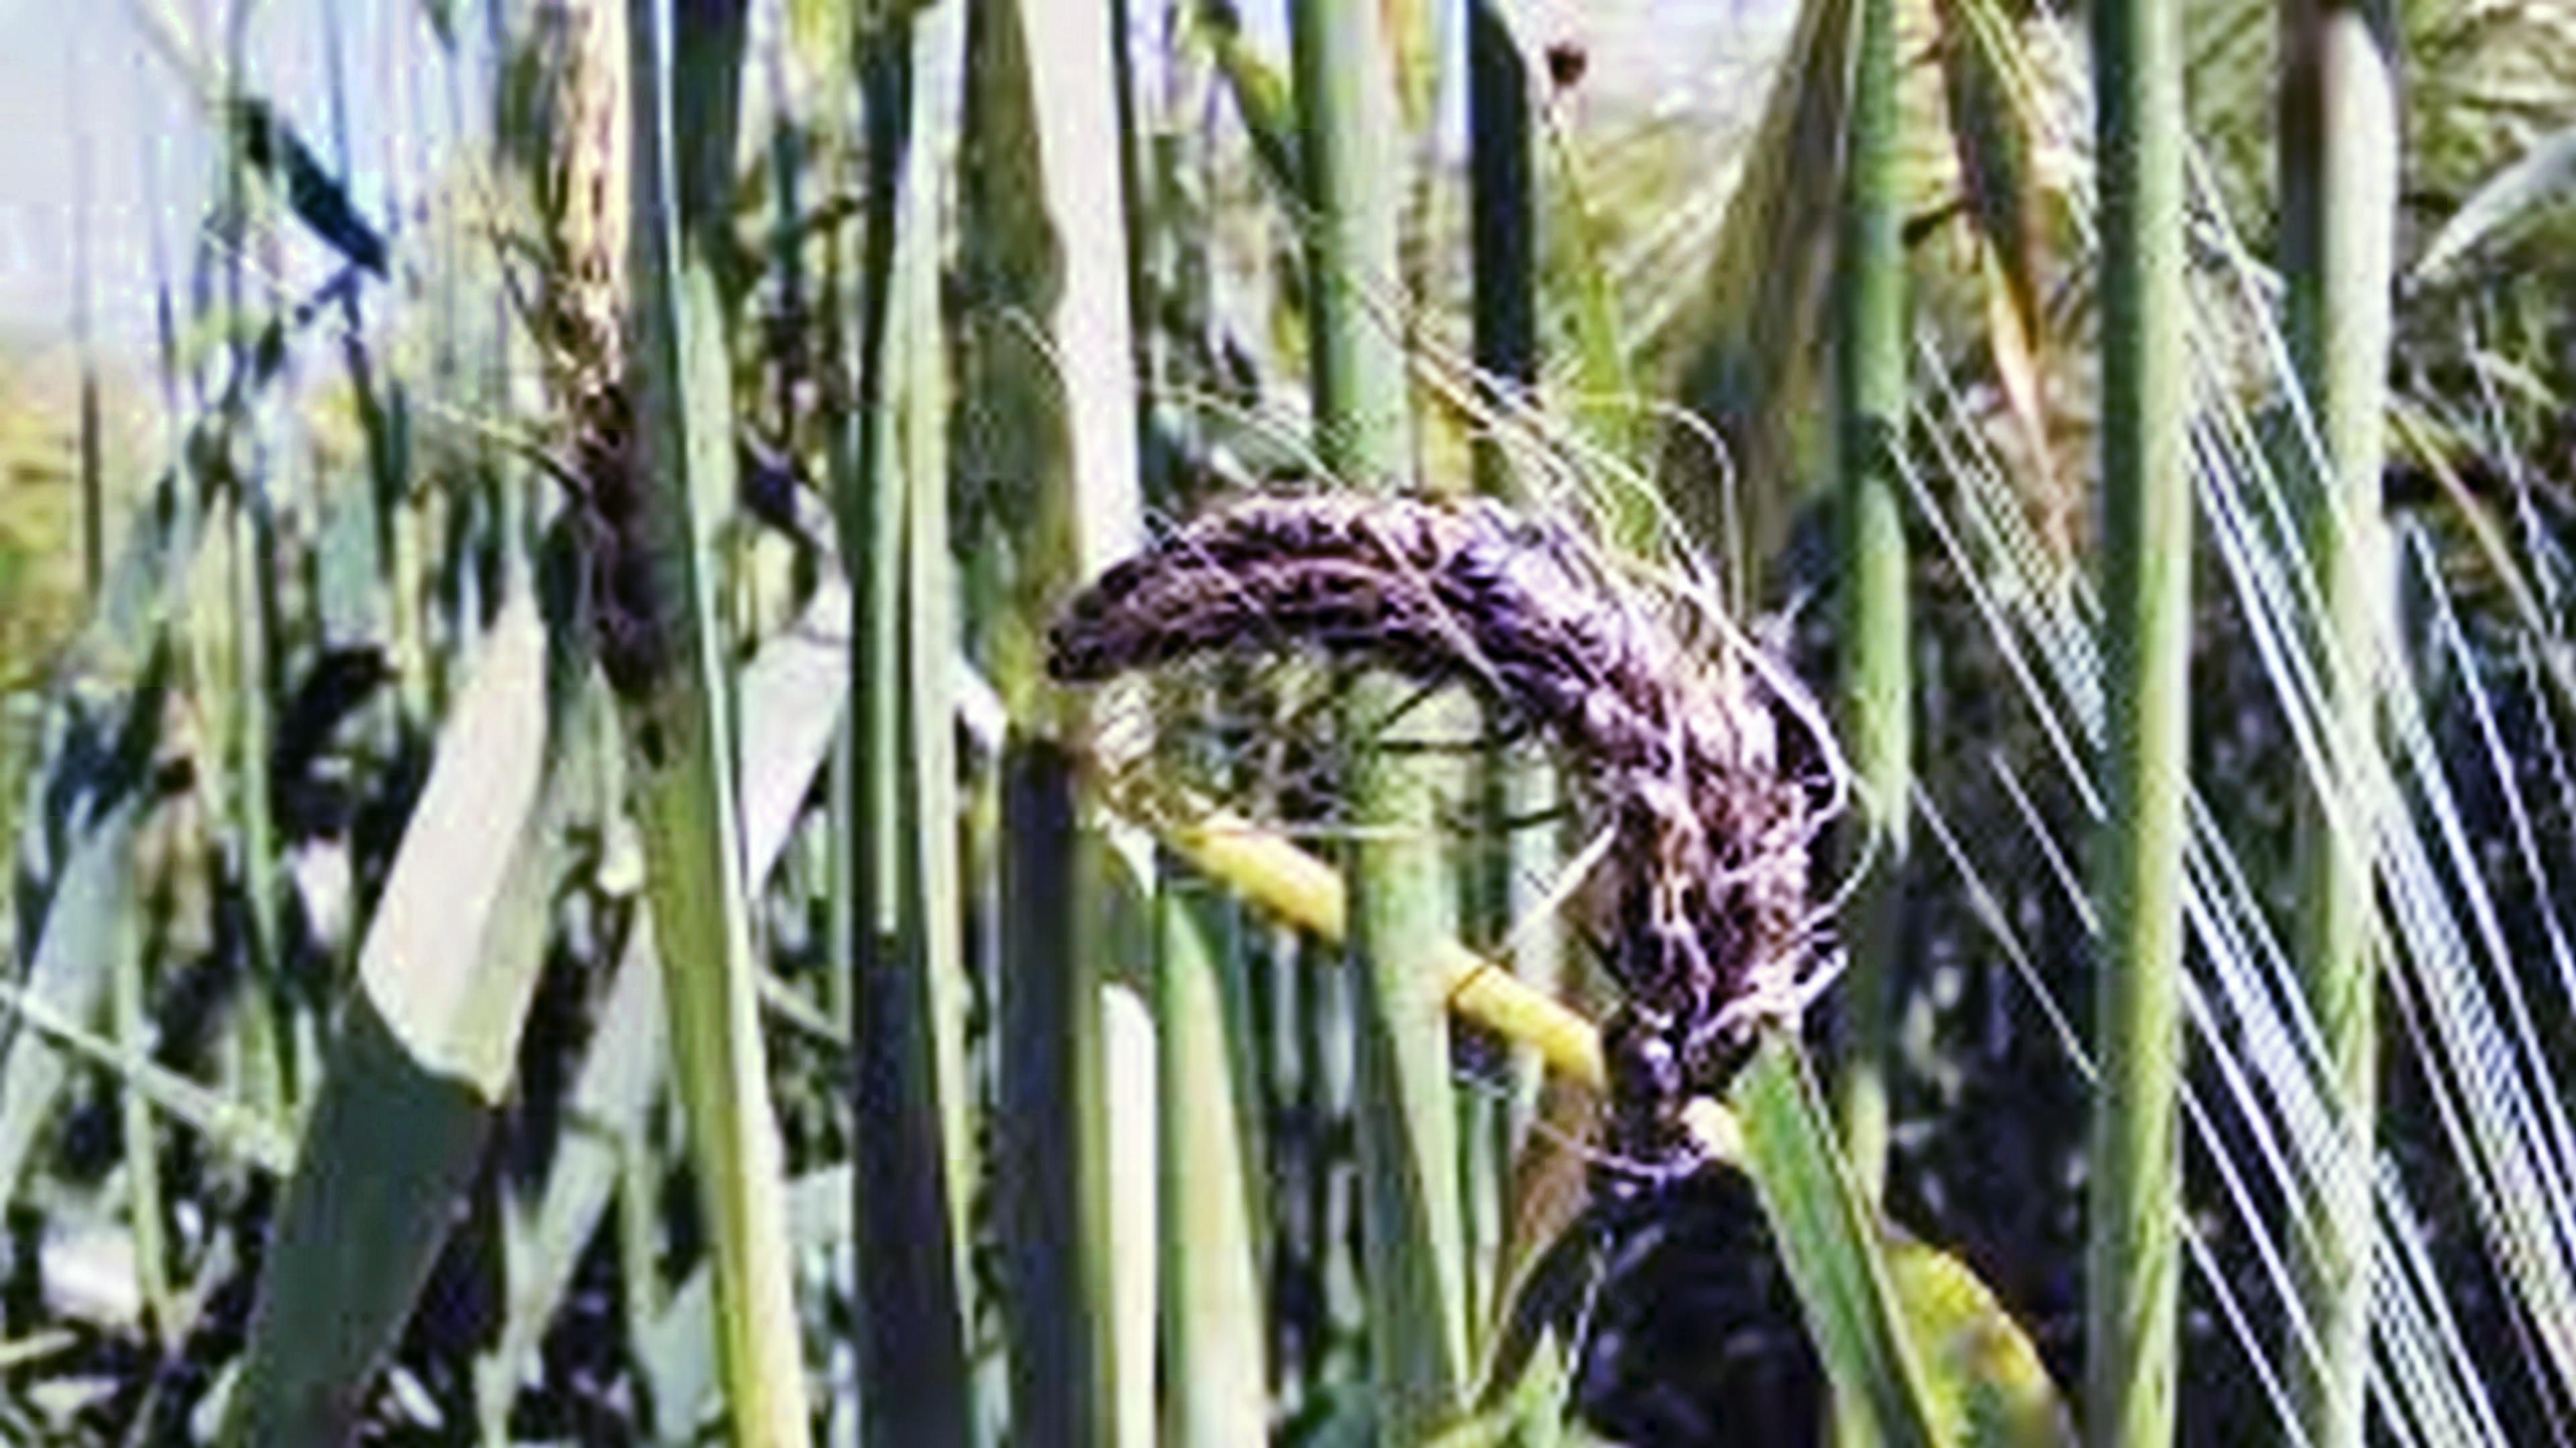Wheat Loose Smut: (973, 458, 1847, 1170)
